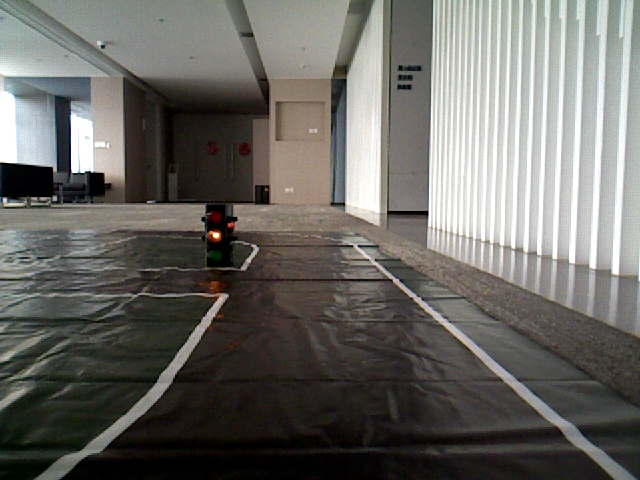yellow: (207, 203, 224, 254)
